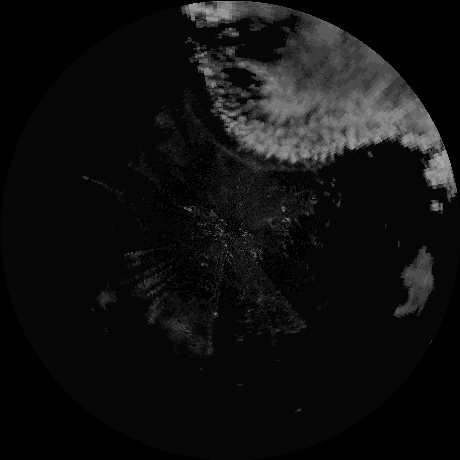frontgust: (217, 141, 308, 173)
